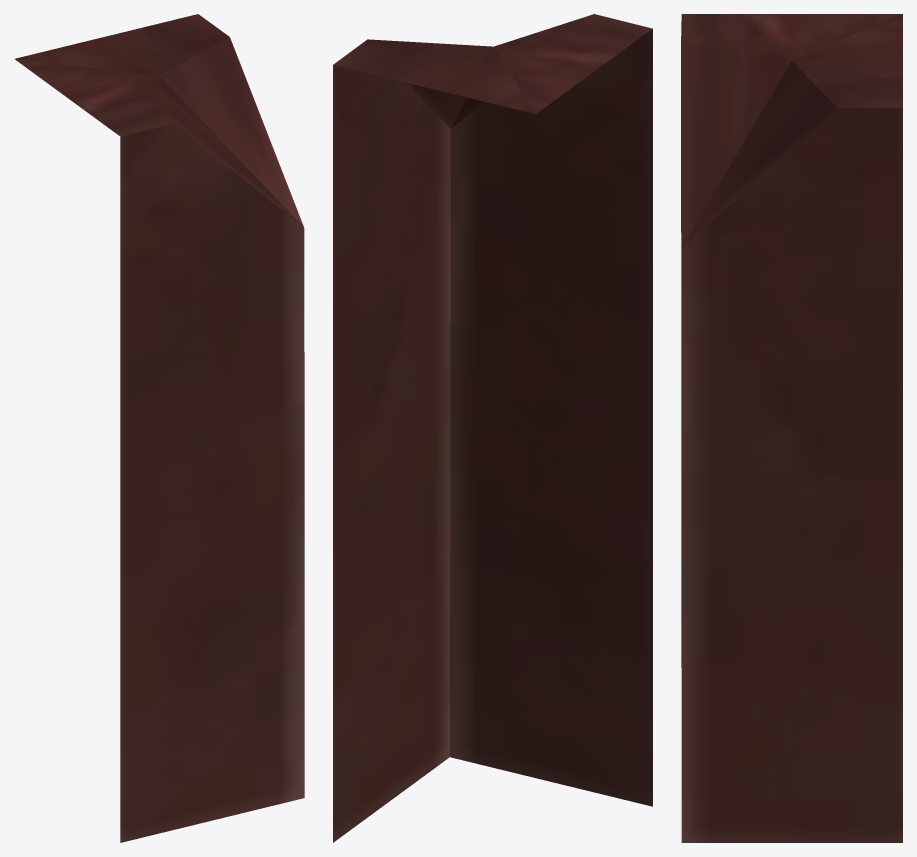
Rendered from lava_broken_convex_01.fbx.
3 renders of one model, left to right at view 1: azimuth 30°, elevation 25°; view 2: azimuth 150°, elevation 25°; view 3: azimuth 270°, elevation 25°, orthographic. The views are drawn at different scales.
Parts seen in each view (by area): view 1: lava_tileset/trim_alpha_filler_depth_write; view 2: lava_tileset/trim_alpha_filler_depth_write; view 3: lava_tileset/trim_alpha_filler_depth_write.
Part boxes in pixels (x1,y1,x2,y2): lava_tileset/trim_alpha_filler_depth_write: (15, 14, 304, 842); lava_tileset/trim_alpha_filler_depth_write: (333, 14, 652, 842); lava_tileset/trim_alpha_filler_depth_write: (681, 14, 902, 842).
Bounding box in the file's own units: 0.3755 × 1.38 × 0.376.
